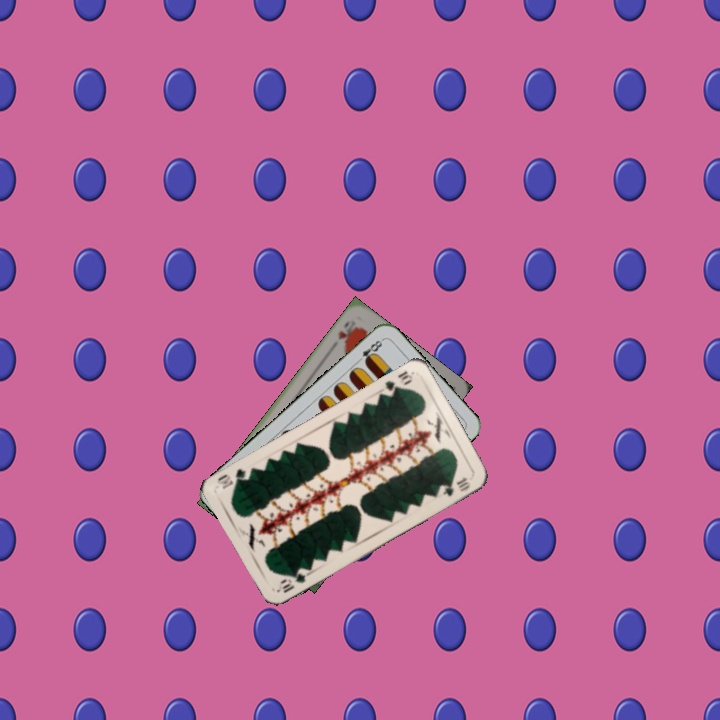E8: (352, 335, 386, 367)
G10: (274, 564, 313, 596), (380, 367, 415, 399)
HO: (334, 317, 360, 345)
